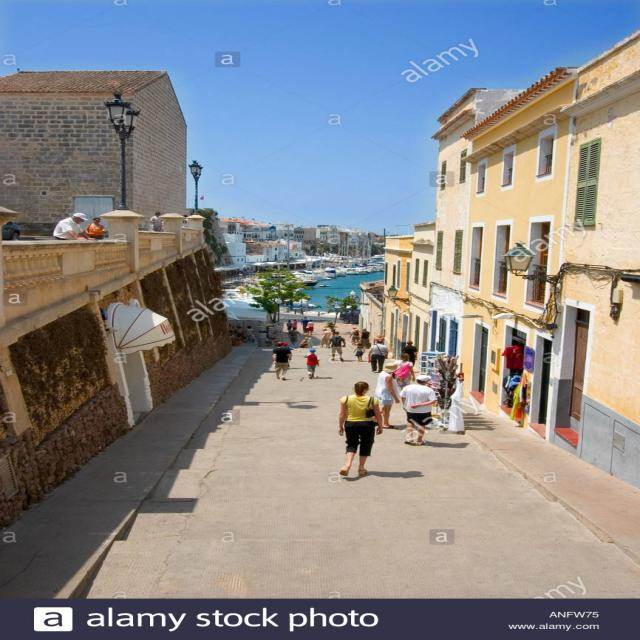body: (337, 380, 384, 478), (397, 373, 437, 447), (374, 362, 402, 429), (52, 212, 99, 242), (341, 470, 425, 482), (392, 353, 416, 392), (270, 341, 292, 381), (366, 338, 389, 373), (0, 220, 21, 252), (326, 331, 346, 362), (302, 348, 321, 380), (84, 216, 106, 240), (401, 340, 419, 367), (424, 439, 472, 449), (282, 342, 302, 361), (149, 211, 165, 232), (286, 326, 302, 347), (230, 325, 244, 346), (352, 343, 367, 362), (348, 326, 362, 346), (318, 328, 331, 348), (359, 328, 371, 347), (180, 213, 192, 231), (244, 324, 253, 345), (301, 316, 311, 334), (306, 318, 315, 336), (330, 331, 340, 347), (298, 336, 310, 349), (372, 334, 386, 344), (312, 375, 332, 381), (305, 337, 314, 349), (337, 358, 358, 363), (291, 318, 299, 331), (286, 320, 294, 332), (288, 367, 308, 371)
